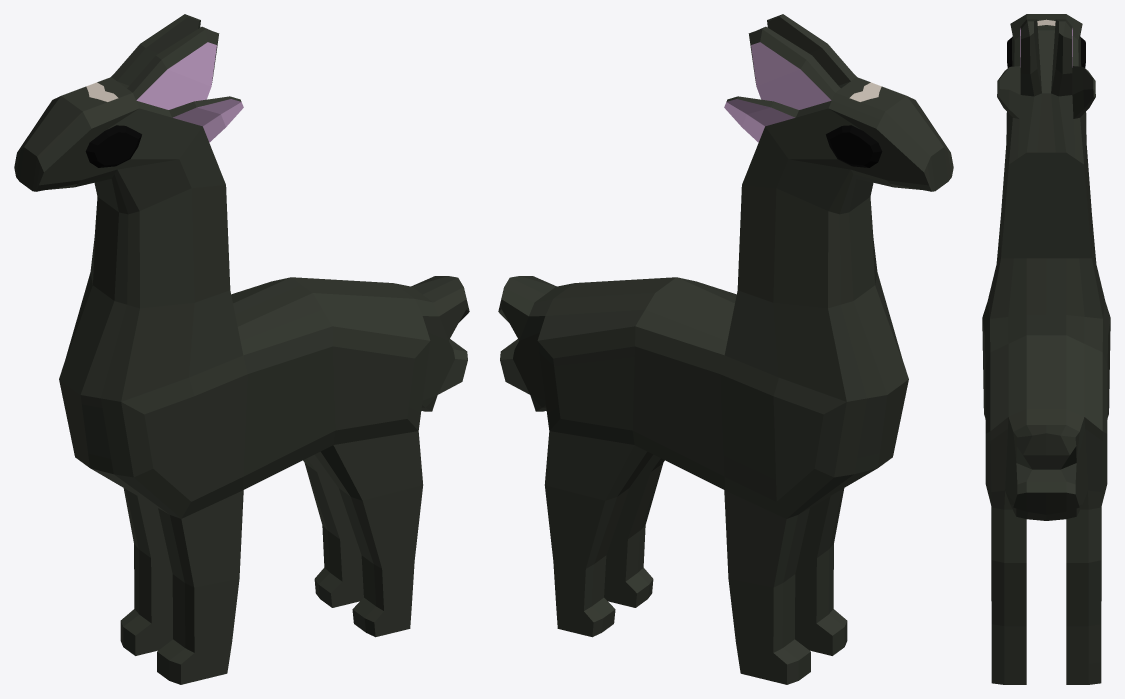
Rendered from GeestrulModel.fbx.
3 renders of one model, left to right at view 1: azimuth 30°, elevation 25°; view 2: azimuth 150°, elevation 25°; view 3: azimuth 270°, elevation 25°, orthographic. The views are drawn at different scales.
Parts seen in each view (by area): view 1: Plane; view 2: Plane; view 3: Plane.
Part boxes in pixels (x1,y1,x2,y2): Plane: (14, 14, 469, 684); Plane: (498, 14, 953, 684); Plane: (982, 14, 1110, 684).
Size of the model in its own units: 125 by 175 by 35.18.
